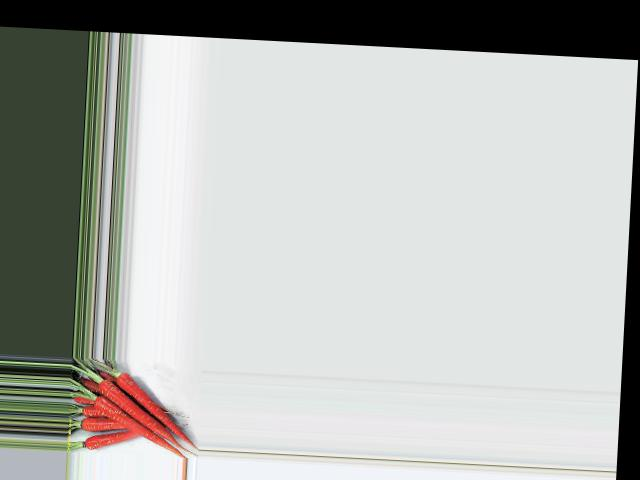carrot: (82, 425, 141, 455)
